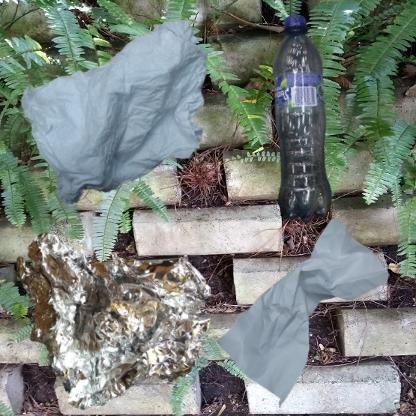aluminio: (10, 213, 226, 416)
botella: (213, 10, 416, 278)
papel: (10, 10, 269, 234), (213, 213, 391, 412)
